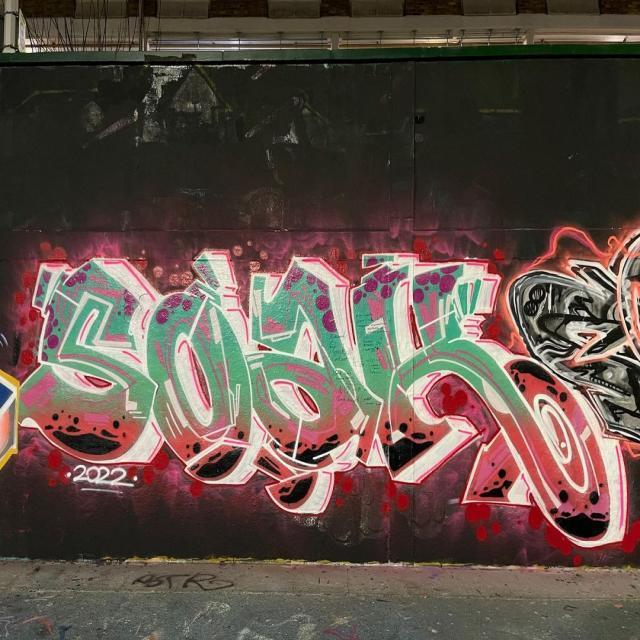-: (9, 234, 638, 552)
